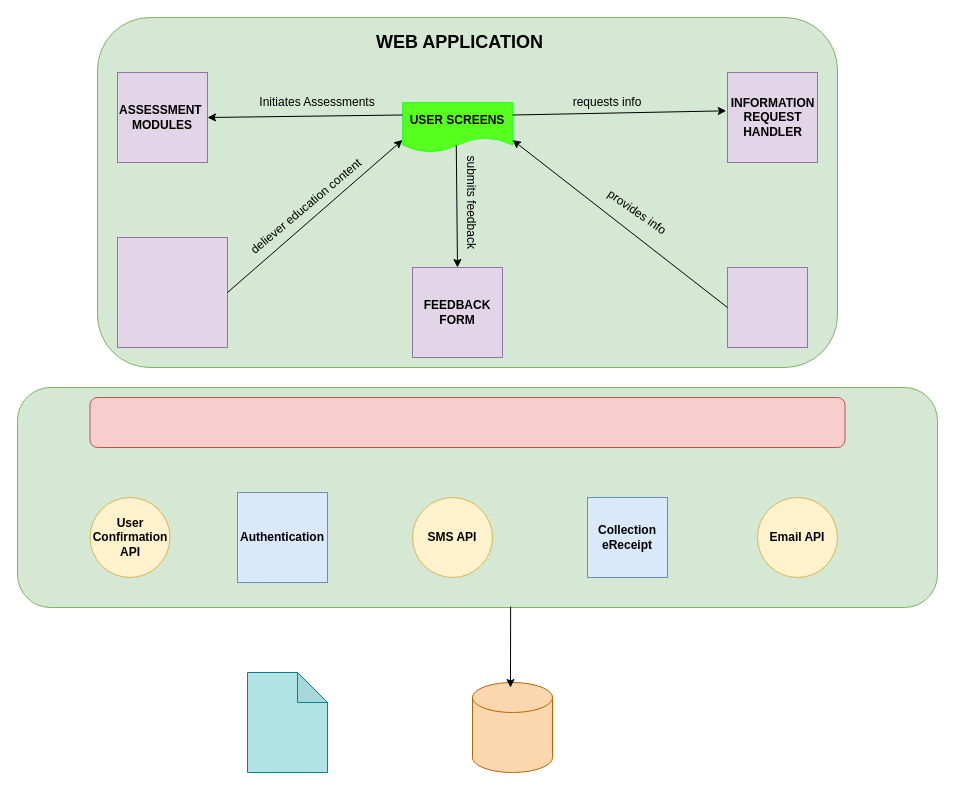
The diagram is 955 pixels wide and 790 high, and some of its shapes have lost their labels. Here are the shapes that lost their labels. From the top down, the box of each, then its label:
(116, 236, 228, 348): Psychoeducation
(726, 266, 808, 348): Healthcare Provider
(89, 396, 845, 448): Gateway
(246, 672, 328, 772): Reports
(472, 682, 552, 772): Database
